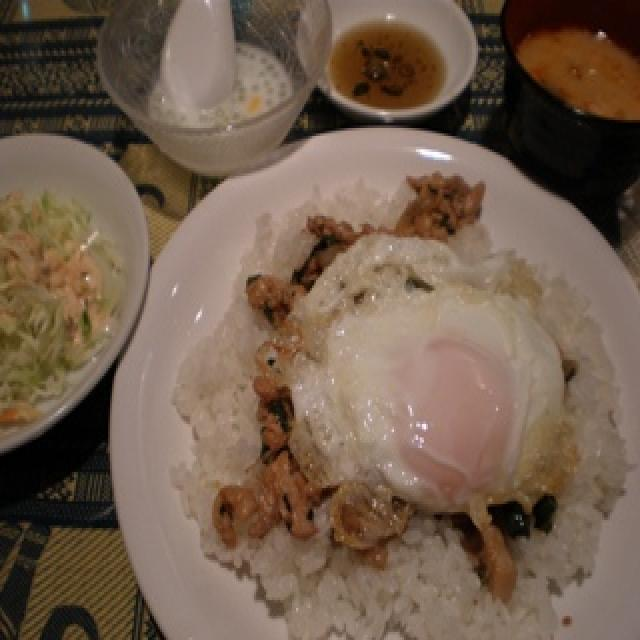鸡蛋料理: (276, 197, 572, 507)
